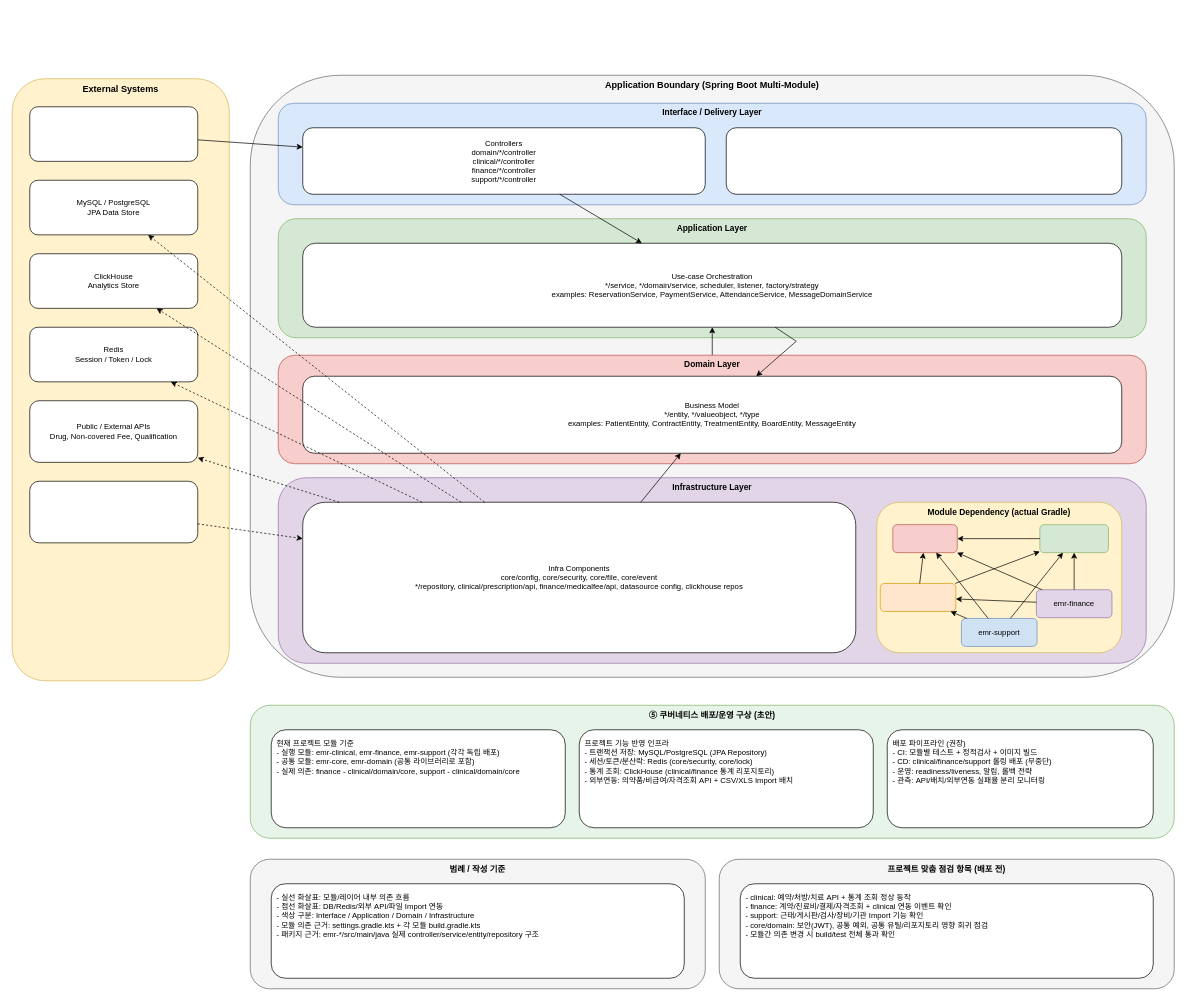
The diagram is 1187 pixels wide and 1001 high, and some of its shapes have lost their labels. Each missing label, with the centre of its shape:
"Client / Admin / API Consumer REST Calls" belongs at point (113, 133).
"CSV / XLS Sources Statistics and Institution Import" belongs at point (113, 512).
"DTO Contracts */dto, */dto/request, */dto/response" belongs at point (924, 160).
"emr-clinical" belongs at point (918, 597).
"emr-core" belongs at point (924, 538).
"emr-domain" belongs at point (1073, 538).
